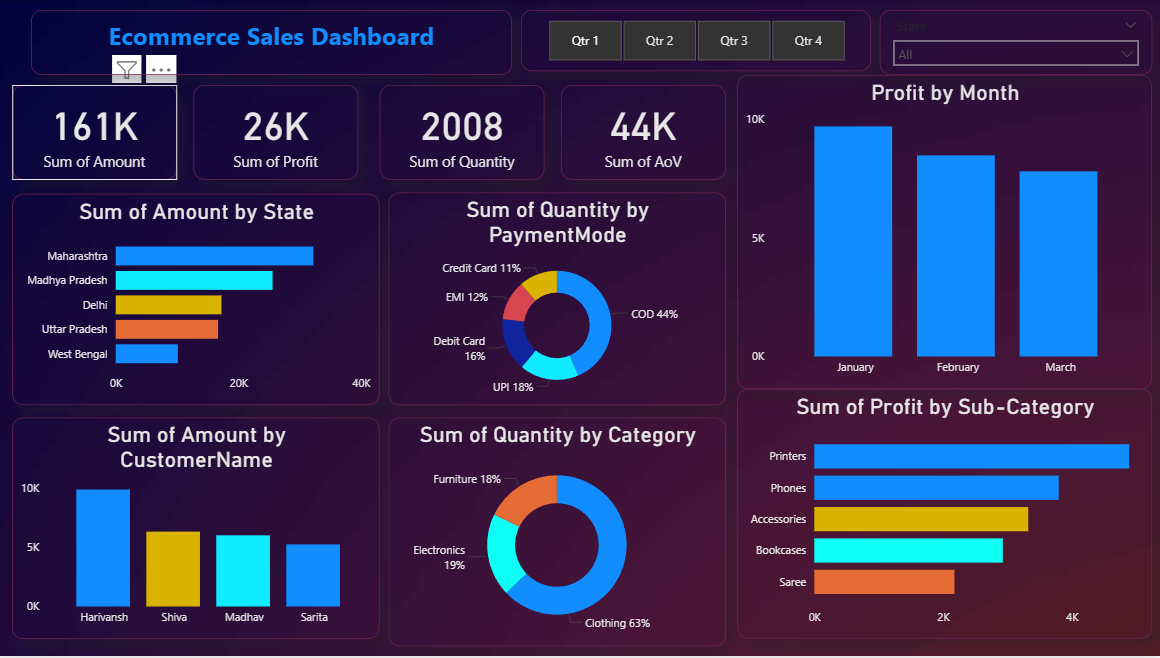

The page's visual inventory and layout, read from the dashboard file:
{"tool":"powerbi","page":{"name":"Page 1","canvas":[1280,720],"ordinal":0},"visuals":[{"type":"columnChart","title":"Profit by Month","fields":{"Category":["Orders.Order Date.Variation.Date Hierarchy.Month"],"Y":["Sum(Details.Profit)"]},"box":[813.7,82.3,455.6,344.4],"z":0},{"type":"barChart","fields":{"Category":["Details.Sub-Category"],"Y":["Sum(Details.Profit)"]},"box":[813.7,426.8,455.6,274.4],"z":1000},{"type":"donutChart","fields":{"Category":["Details.Category"],"Y":["Sum(Details.Quantity)"]},"box":[430.9,458.3,370.5,251.1],"z":2000},{"type":"donutChart","fields":{"Category":["Details.PaymentMode"],"Y":["Sum(Details.Quantity)"]},"box":[430.9,211.3,370.5,233.3],"z":3000},{"type":"card","title":"Amount","fields":{"Values":["Sum(Details.Amount)"]},"box":[17.8,93.3,181.1,104.3],"z":4000},{"type":"card","title":"Amount","fields":{"Values":["Sum(Details.AoV)"]},"box":[620.2,93.3,181.1,104.3],"z":5000},{"type":"card","title":"Amount","fields":{"Values":["Sum(Details.Quantity)"]},"box":[421.3,93.3,181.1,104.3],"z":6000},{"type":"card","title":"Amount","fields":{"Values":["Sum(Details.Profit)"]},"box":[216.8,93.3,181.1,104.3],"z":7000},{"type":"clusteredBarChart","fields":{"Category":["Orders.State"],"Y":["Sum(Details.Amount)"]},"box":[17.8,212.7,403.4,231.9],"z":8000},{"type":"columnChart","fields":{"Category":["Orders.CustomerName"],"Y":["Sum(Details.Amount)"]},"box":[17.8,458.3,403.4,242.9],"z":9000},{"type":"slicer","fields":{"Values":["Orders.Order Date.Variation.Date Hierarchy.Quarter"]},"box":[576.3,11,384.2,67.2],"z":10000},{"type":"slicer","fields":{"Values":["Orders.State"]},"box":[970.2,11,299.1,71.4],"z":11000},{"type":"textbox","box":[38.4,11,528.3,71.4],"z":12000}]}

Visuals, with their boxes in screenshot pixels (x1, y1, x2, y2), scaled from the page's 1280x720 canvas onto the 1160x658 screenshot:
"Profit by Month" columnChart: <region>737, 75, 1150, 390</region>
barChart - Details.Sub-Category x Sum(Details.Profit): <region>737, 390, 1150, 641</region>
donutChart - Details.Category x Sum(Details.Quantity): <region>391, 419, 726, 648</region>
donutChart - Details.PaymentMode x Sum(Details.Quantity): <region>391, 193, 726, 406</region>
"Amount" card: <region>16, 85, 180, 181</region>
"Amount" card: <region>562, 85, 726, 181</region>
"Amount" card: <region>382, 85, 546, 181</region>
"Amount" card: <region>196, 85, 361, 181</region>
clusteredBarChart - Orders.State x Sum(Details.Amount): <region>16, 194, 382, 406</region>
columnChart - Orders.CustomerName x Sum(Details.Amount): <region>16, 419, 382, 641</region>
slicer - Orders.Order Date.Variation.Date Hierarchy.Quarter: <region>522, 10, 870, 71</region>
slicer - Orders.State: <region>879, 10, 1150, 75</region>
textbox: <region>35, 10, 514, 75</region>
